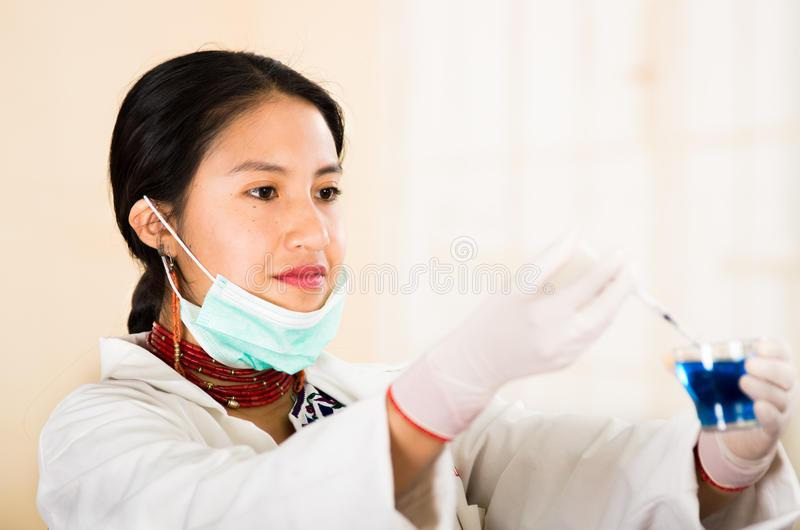Wore Mask Incorrectly: (123, 74, 401, 409)
